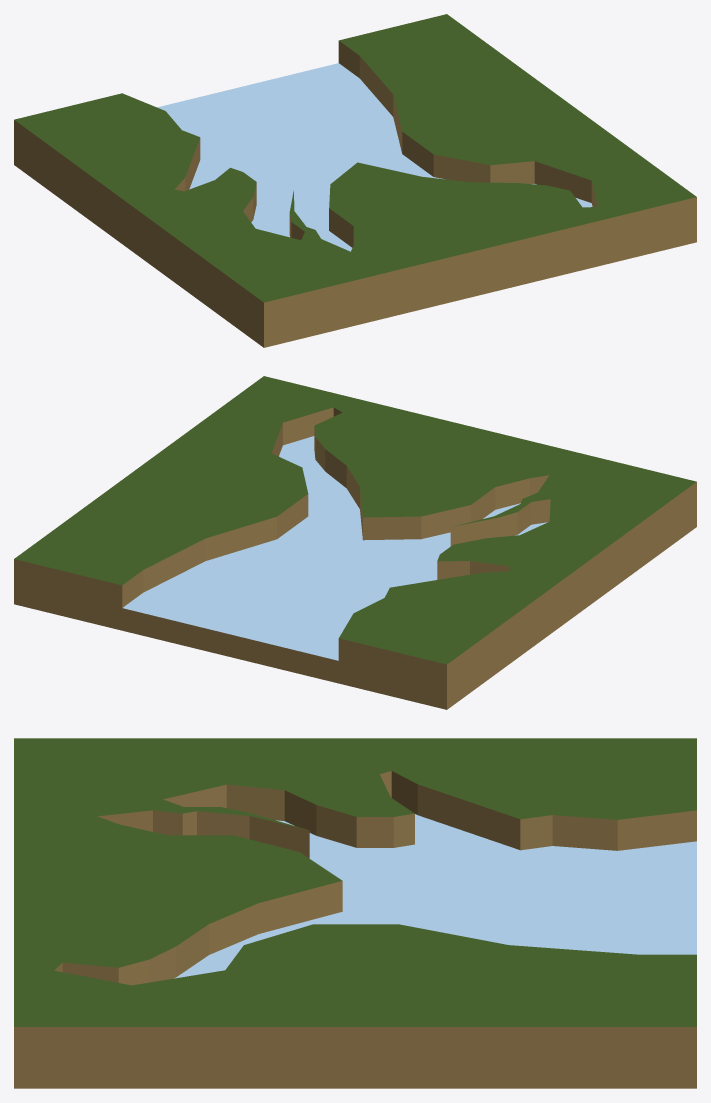
File: Terrain_Modular_Tiles_Grass_Dirt_River_End_02.fbx
3 views of the same model, one above another, from view 1: azimuth 30°, elevation 25°; view 2: azimuth 150°, elevation 25°; view 3: azimuth 270°, elevation 25° (orthographic). The views are drawn at different scales.
Visible parts, largest first — view 1: Terrain_Modular_Tiles_Grass_Dirt_River_End_02; view 2: Terrain_Modular_Tiles_Grass_Dirt_River_End_02; view 3: Terrain_Modular_Tiles_Grass_Dirt_River_End_02.
Part boxes in pixels (x1=…): Terrain_Modular_Tiles_Grass_Dirt_River_End_02: x1=14, y1=14, x2=696, y2=347; Terrain_Modular_Tiles_Grass_Dirt_River_End_02: x1=14, y1=376, x2=696, y2=709; Terrain_Modular_Tiles_Grass_Dirt_River_End_02: x1=14, y1=738, x2=696, y2=1088.
Size of the model in its own units: 118 by 11.81 by 118.
